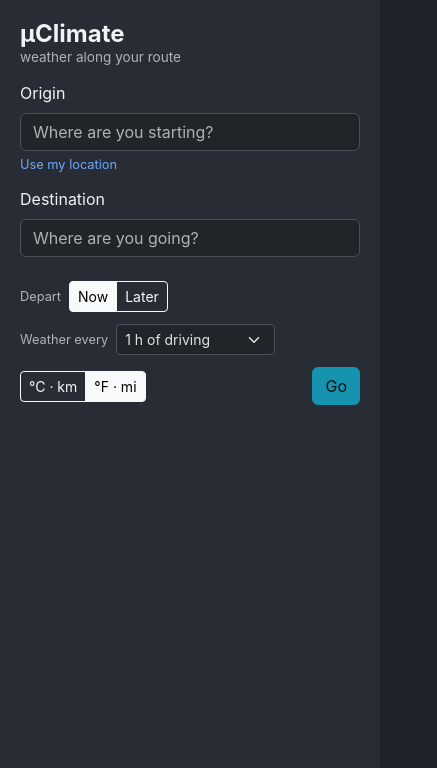
Test: App › shows the server error message when a trip fails
In the dropdown labelled "Origin": (190, 132) [20,113,360,151], type "San"
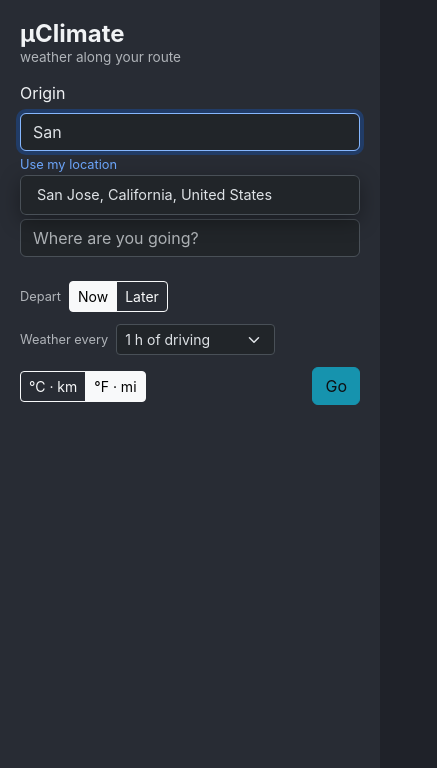
Click the option "San Jose, California, United States": (190, 195) [20,175,360,215]
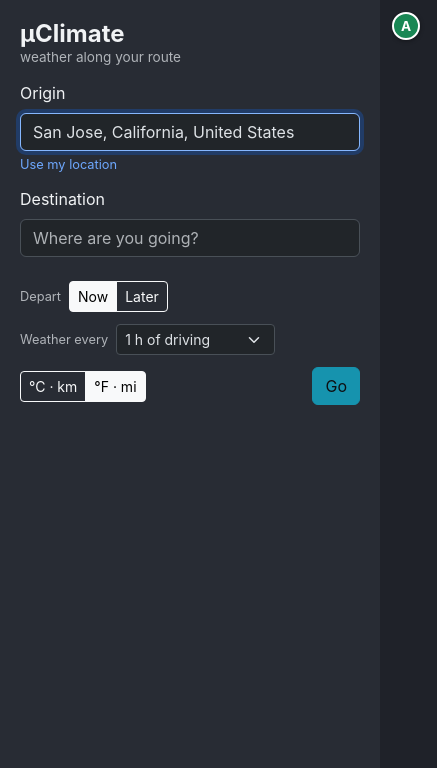
In the dropdown labelled "Destination": (190, 238) [20,219,360,257], type "Los"
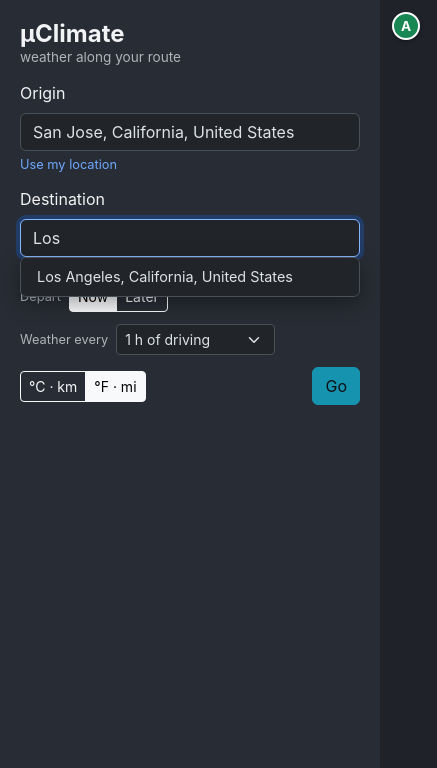
Click the option "Los Angeles, California, United States": (190, 277) [20,257,360,297]
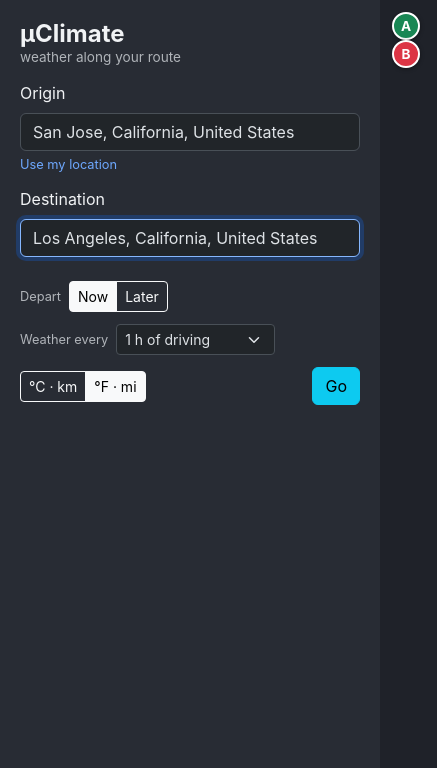
Click the button "Go": (336, 386) [312,367,360,405]
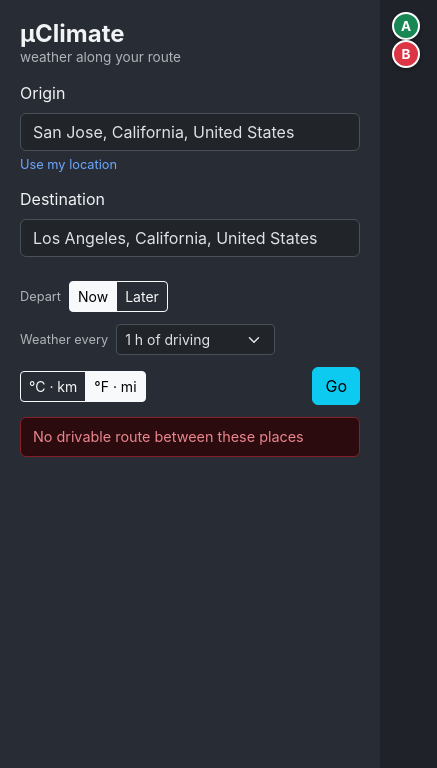
expect the message reads "No drivable route between these places": met, box [33,428,304,445]
